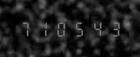five: (69, 20, 85, 37)
four: (86, 20, 102, 37)
one: (34, 20, 50, 37)
seven: (17, 20, 33, 37)
three: (103, 20, 119, 37)
zero: (52, 20, 68, 37)
